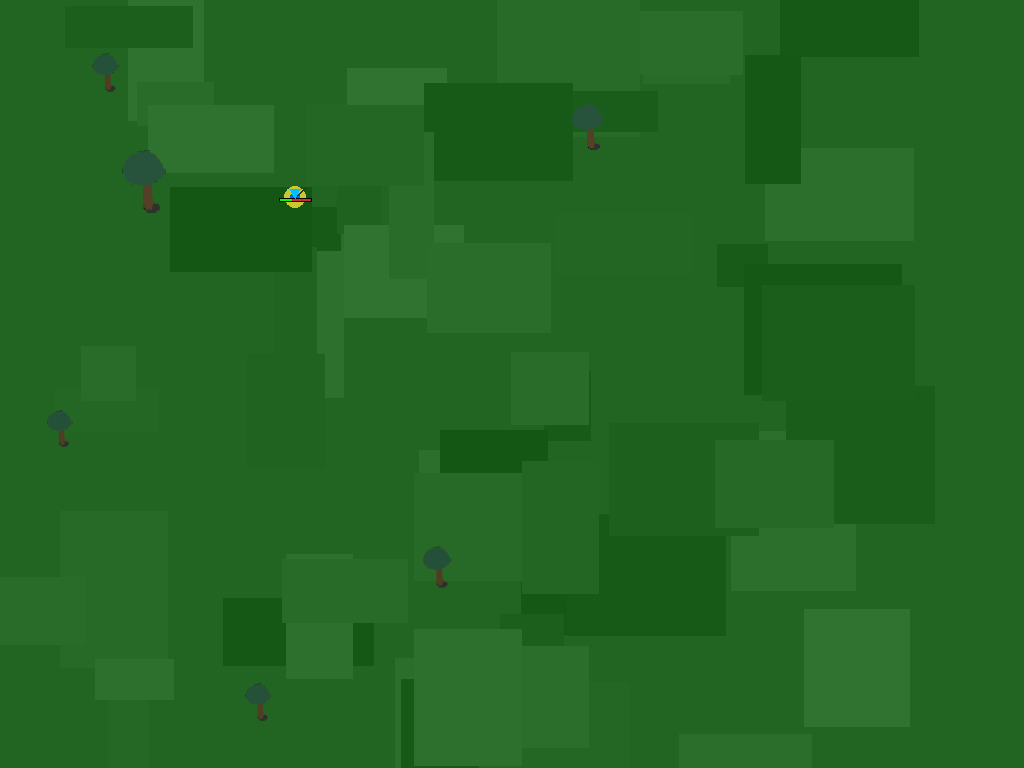Rifleman: (275, 178, 314, 217)
